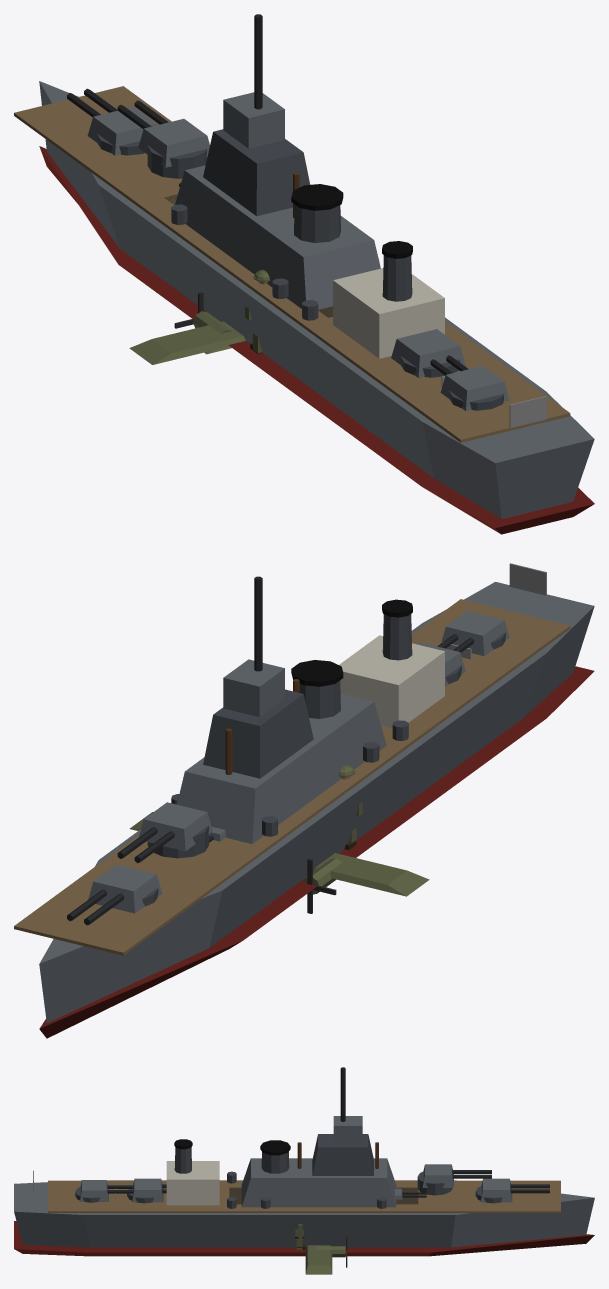
The model's file is units.glb.
3 views of the same model, one above another, from view 1: azimuth 30°, elevation 25°; view 2: azimuth 150°, elevation 25°; view 3: azimuth 270°, elevation 25° (orthographic). The views are drawn at different scales.
Visible parts, largest first — view 1: battleship, cargo_ship, bomber; view 2: battleship, cargo_ship, bomber; view 3: battleship, cargo_ship, bomber.
Part boxes in pixels (x1,y1,x2,y2): battleship: [14, 14, 594, 534]; cargo_ship: [164, 172, 444, 358]; bomber: [129, 292, 245, 364]; battleship: [14, 563, 594, 1038]; cargo_ship: [225, 599, 444, 774]; bomber: [129, 812, 429, 913]; battleship: [14, 1067, 594, 1256]; cargo_ship: [166, 1139, 418, 1205]; bomber: [305, 1235, 347, 1274].
Bounding box in the file's own units: 3.8 × 4.25 × 12.
